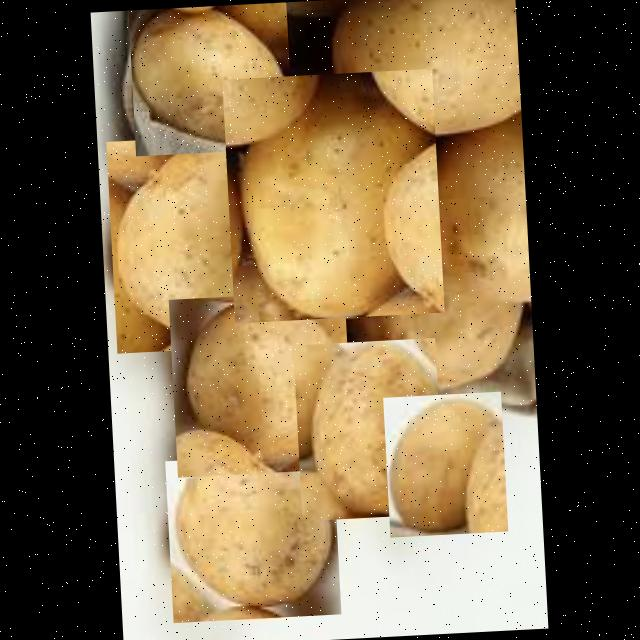Potato: (222, 68, 444, 322), (106, 132, 298, 352), (168, 289, 354, 476), (166, 452, 342, 622), (294, 337, 444, 520), (128, 1, 294, 156), (383, 391, 508, 536)
